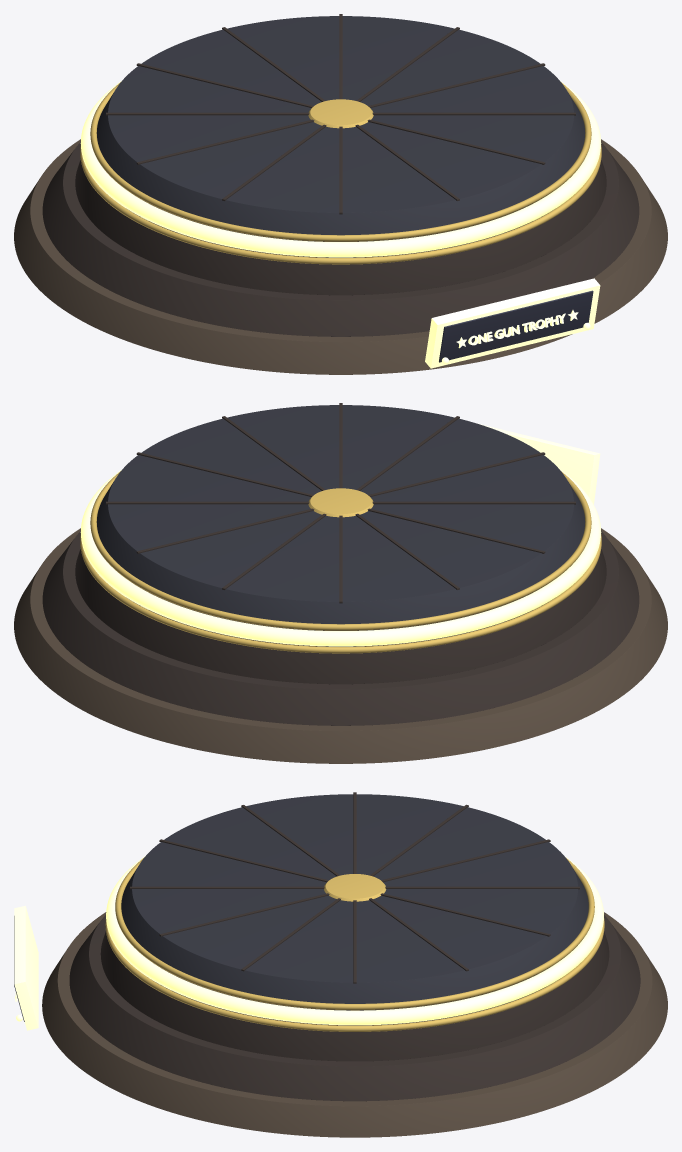
File: TrophyPedestal.glb
3 views of the same model, one above another, from view 1: azimuth 30°, elevation 25°; view 2: azimuth 150°, elevation 25°; view 3: azimuth 270°, elevation 25° (orthographic). The views are drawn at different scales.
Visible parts, largest first — view 1: TrophyPedestal; view 2: TrophyPedestal; view 3: TrophyPedestal.
Part boxes in pixels (bbox=[...]): TrophyPedestal: bbox=[14, 14, 667, 374]; TrophyPedestal: bbox=[14, 403, 667, 763]; TrophyPedestal: bbox=[14, 792, 667, 1137].
Size of the model in its own units: 3.2 by 0.672 by 3.34.
